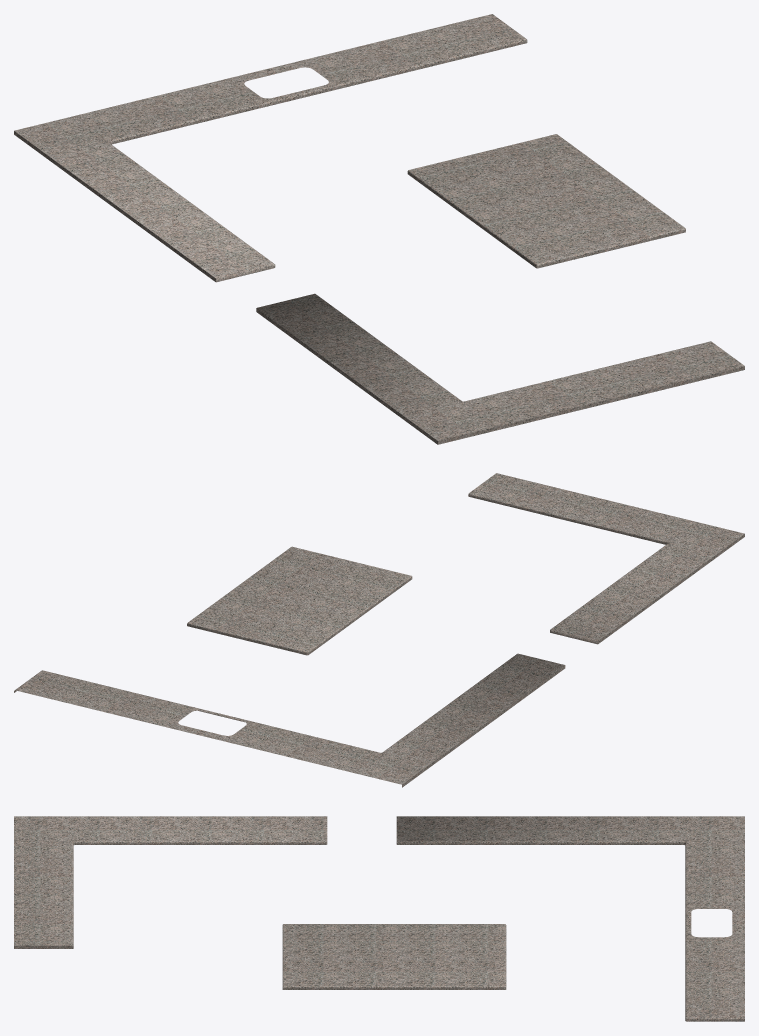
The model's file is Countertops_GraniteCaledonia.glb.
3 views of the same model, one above another, from view 1: azimuth 30°, elevation 25°; view 2: azimuth 150°, elevation 25°; view 3: azimuth 270°, elevation 25° (orthographic). The views are drawn at different scales.
Parts seen in each view (by area): view 1: Countertops_Granite Caledonia; view 2: Countertops_Granite Caledonia; view 3: Countertops_Granite Caledonia.
Boxes of the visible parts, bbox=[...] form: Countertops_Granite Caledonia: bbox=[14, 14, 744, 444]; Countertops_Granite Caledonia: bbox=[14, 473, 744, 787]; Countertops_Granite Caledonia: bbox=[14, 816, 744, 1021].
Bounding box in the file's own units: 6.4 × 0.05 × 9.8.
1 material, 1 textured.
